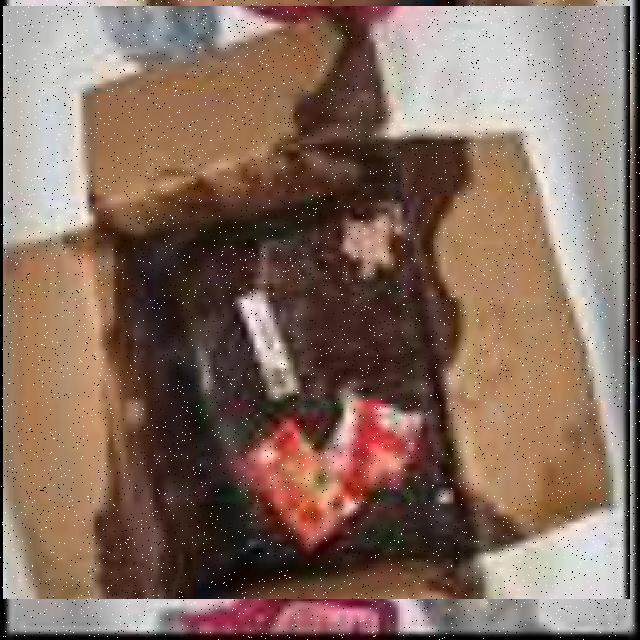defect: (2, 6, 629, 599)
